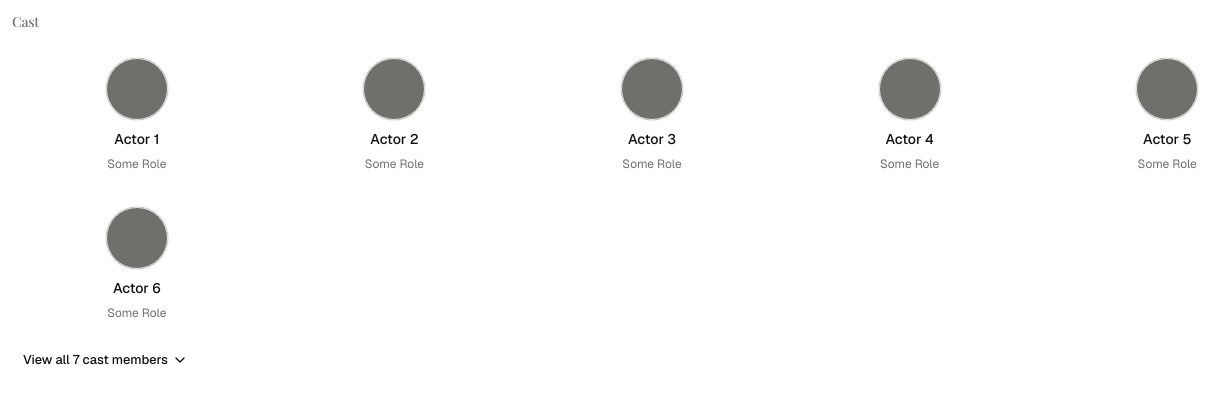
Test: CastList › collapses cast beyond the preview and expands on demand
Expected: the text "Actor 7" is not shown
Click the button "View all 7 cast members": click(105, 360) [12,346,199,374]
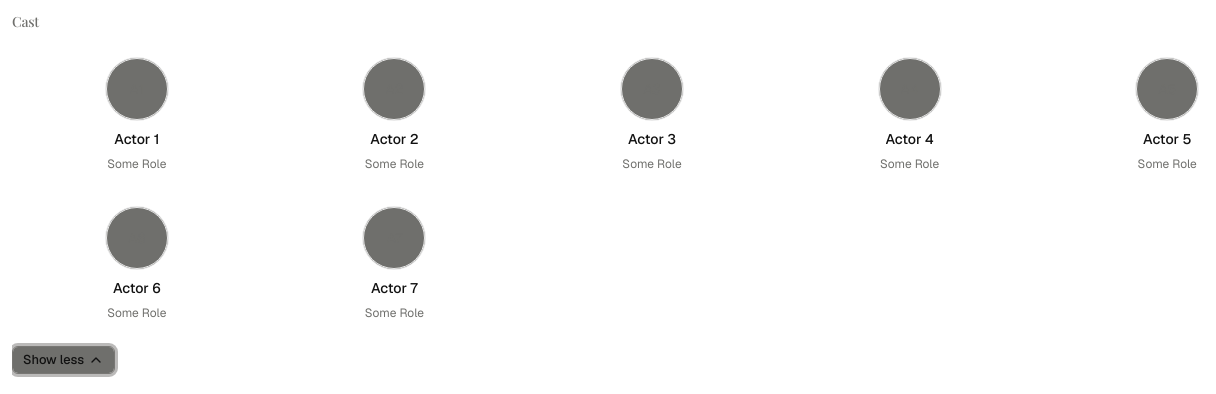
Result: the text "Actor 7" is shown at [371,278,418,298]
Result: the button "Show less" is shown at [12,346,115,374]
